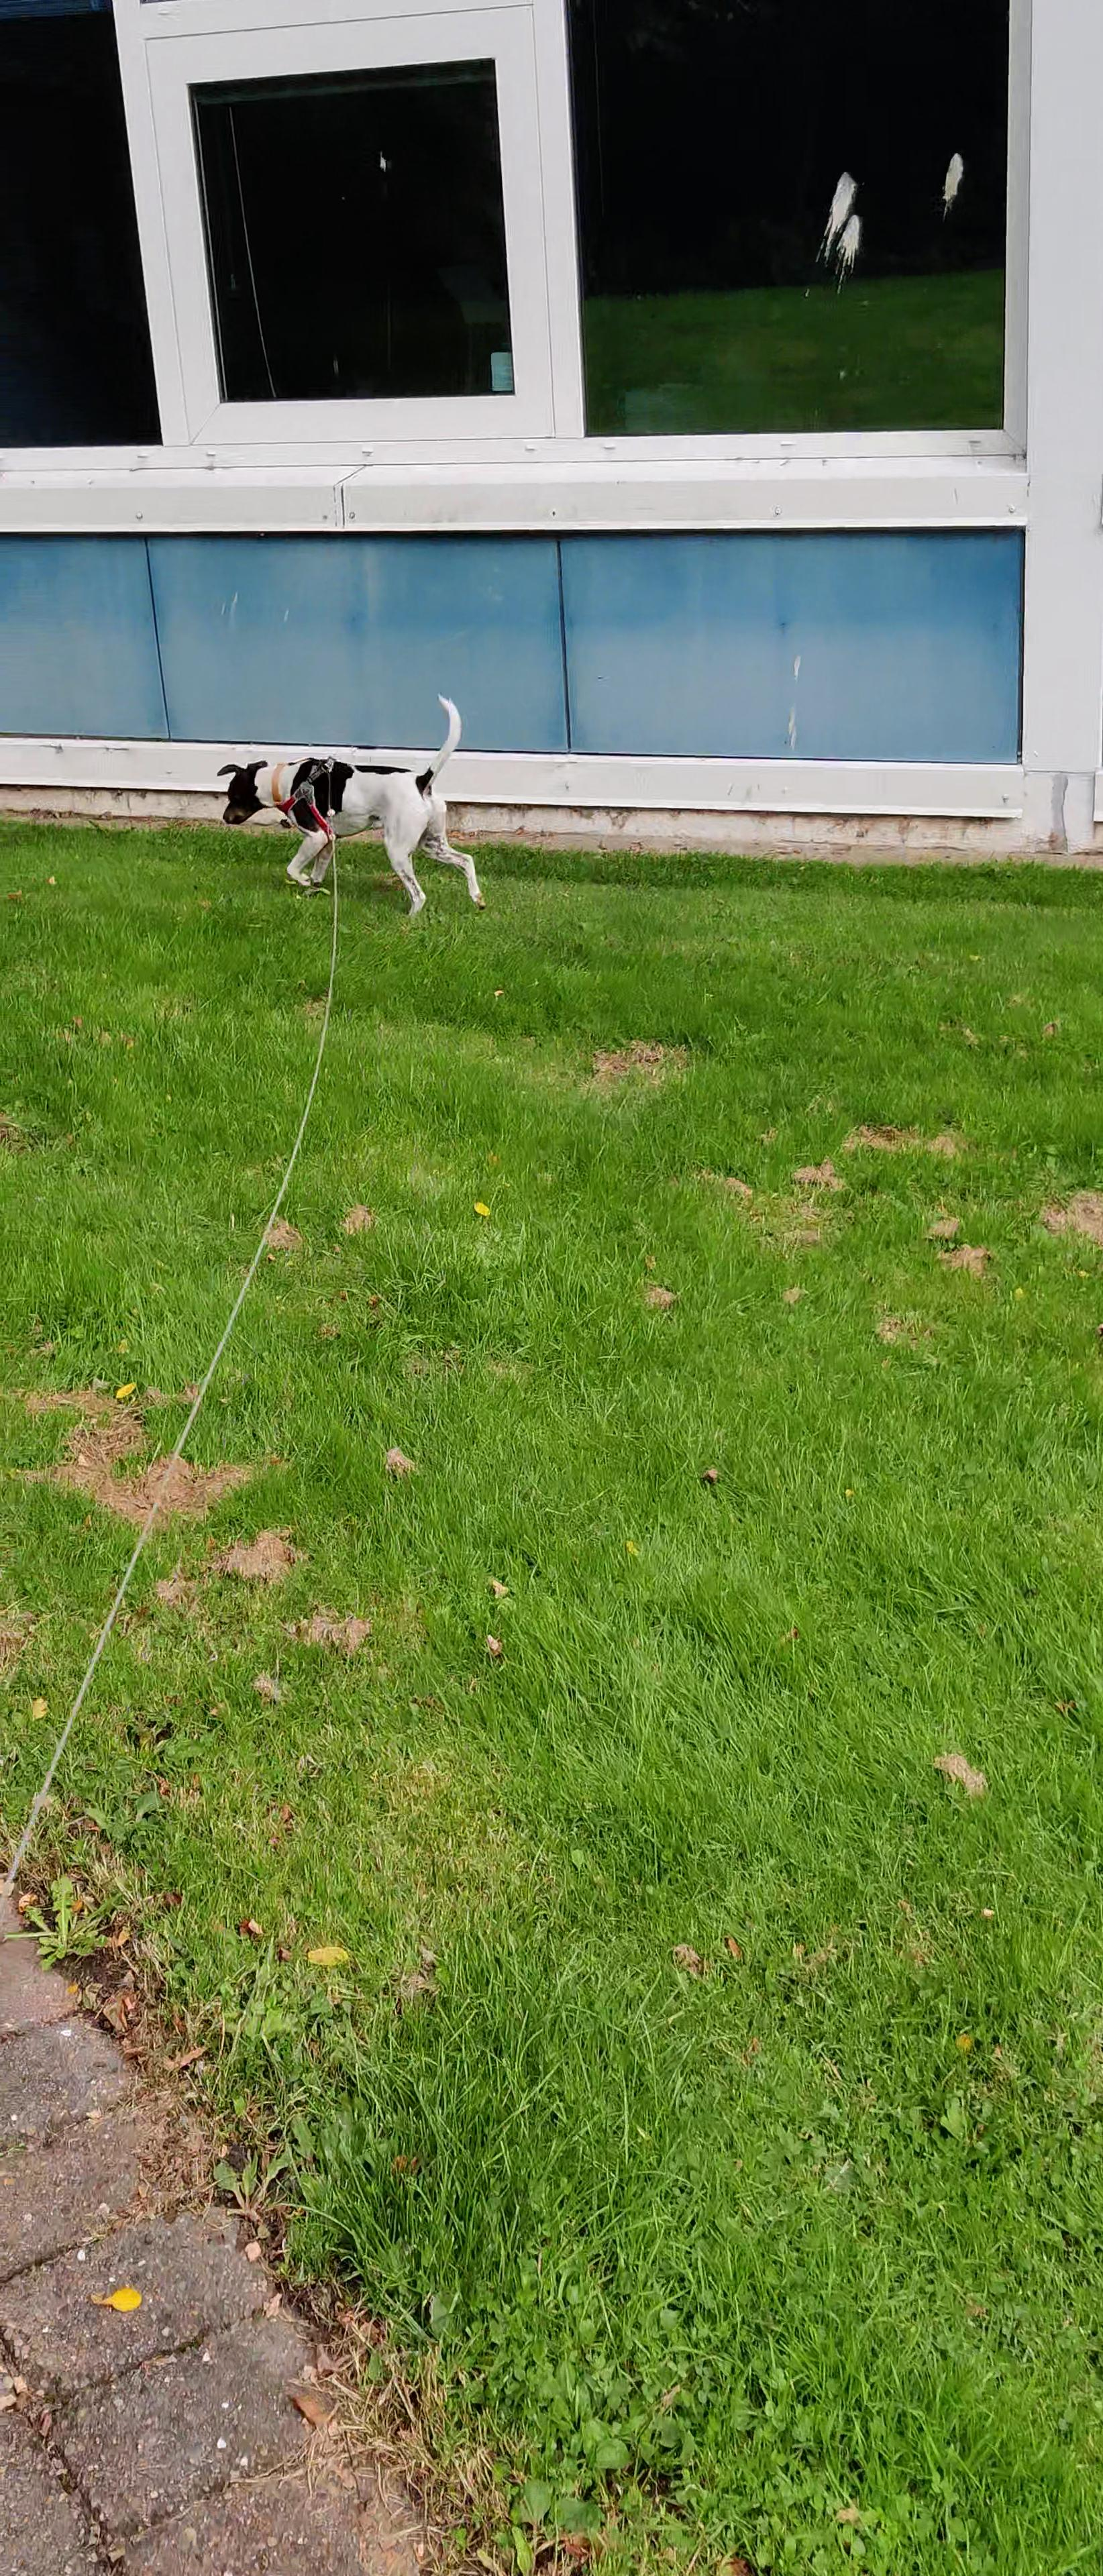Dog: (192, 672, 501, 925)
